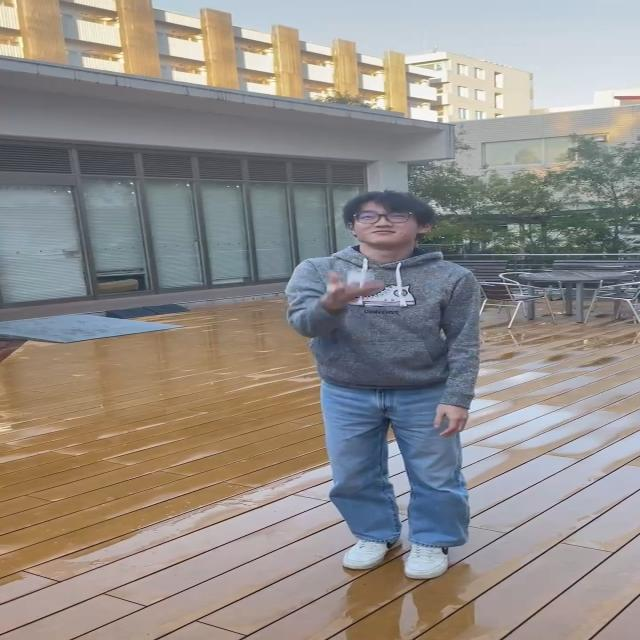paper: (349, 272, 374, 283)
